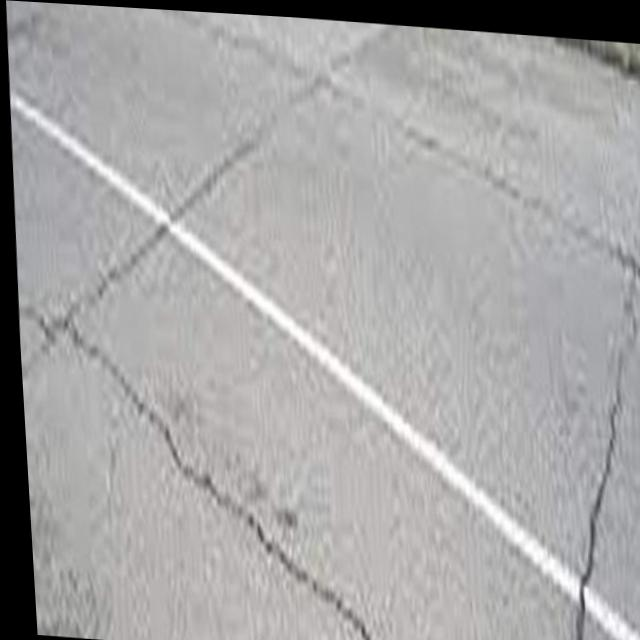Crack: (494, 248, 640, 640), (266, 481, 390, 640), (140, 365, 255, 518), (13, 281, 146, 381)
